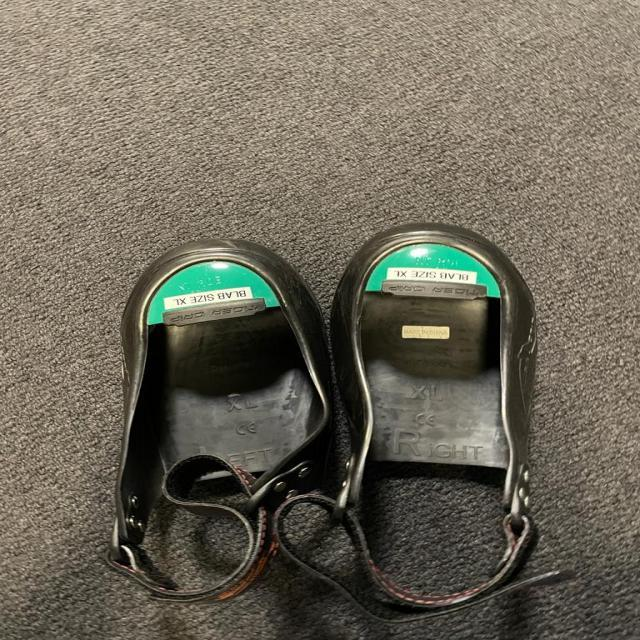shoes: (106, 226, 351, 591), (343, 217, 534, 613)
